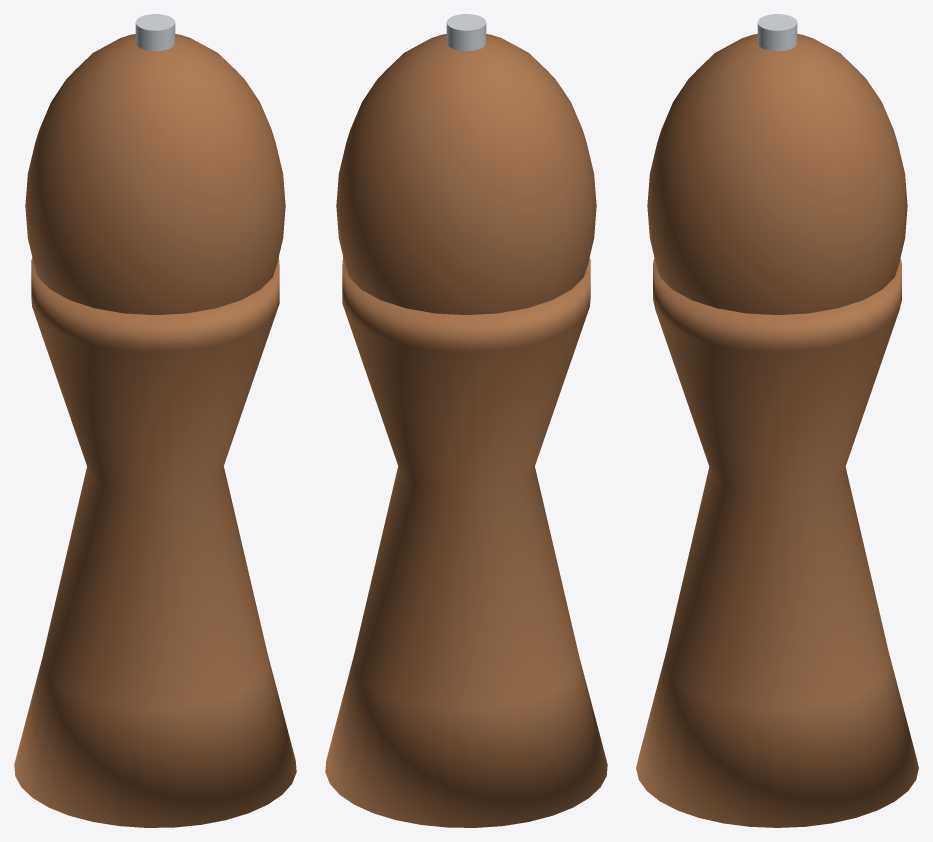
File: wp-poivriere.glb
3 views of the same model, side by side, from view 1: azimuth 30°, elevation 25°; view 2: azimuth 150°, elevation 25°; view 3: azimuth 270°, elevation 25° (orthographic).
Parts seen in each view (by area): view 1: wp-poivriere; view 2: wp-poivriere; view 3: wp-poivriere.
Part boxes in pixels (x1=…): wp-poivriere: x1=14, y1=14, x2=296, y2=827; wp-poivriere: x1=325, y1=14, x2=607, y2=827; wp-poivriere: x1=636, y1=14, x2=918, y2=827.
Bounding box in the file's own units: 0.055 × 0.16 × 0.055.
